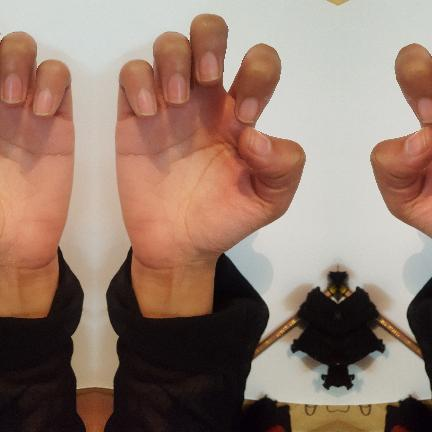Nail: (248, 127, 270, 156), (404, 127, 426, 156), (166, 74, 187, 104), (1, 74, 22, 104), (236, 97, 259, 123), (199, 52, 218, 82), (136, 89, 155, 116), (33, 89, 52, 116), (415, 97, 432, 123)
